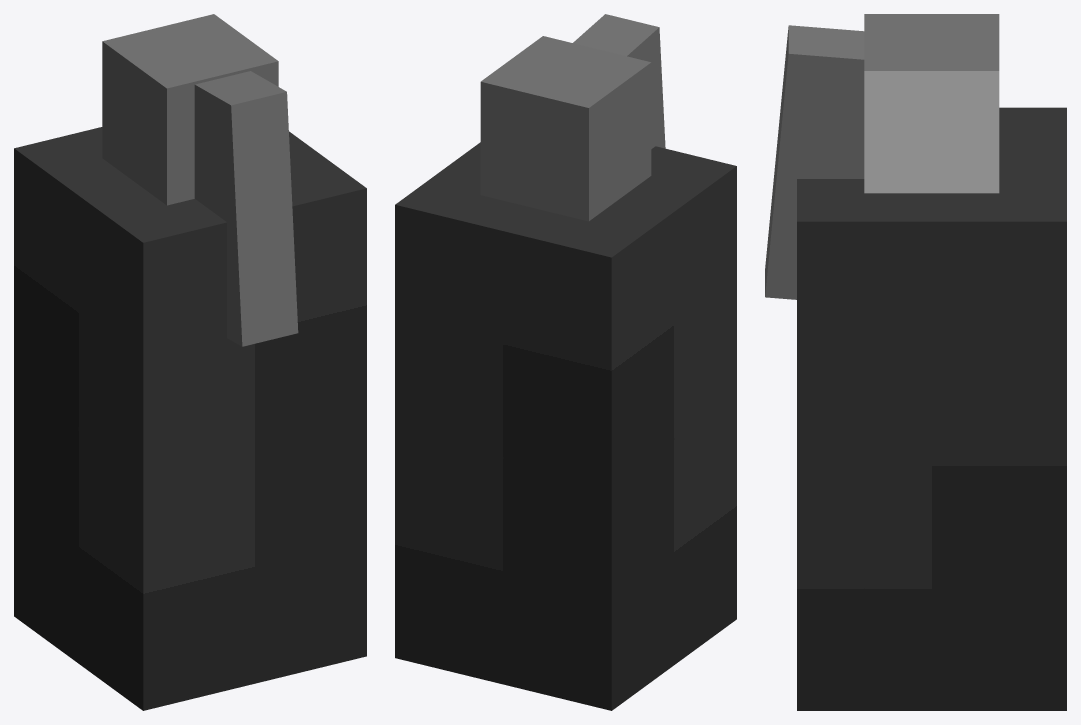
Rendered from frag.gltf.
3 renders of one model, left to right at view 1: azimuth 30°, elevation 25°; view 2: azimuth 150°, elevation 25°; view 3: azimuth 270°, elevation 25°, orthographic. The views are drawn at different scales.
Visible parts, largest first — view 1: mesh (×3); view 2: mesh (×3); view 3: mesh (×3).
Boxes of the visible parts, x1,y1,x2,y2 form: mesh (×3): [14, 14, 366, 710]; mesh (×3): [395, 14, 736, 710]; mesh (×3): [765, 14, 1066, 710].
Size of the model in its own units: 0.125 by 0.314 by 0.1398.
Materials: 1 (1 with a texture image).
